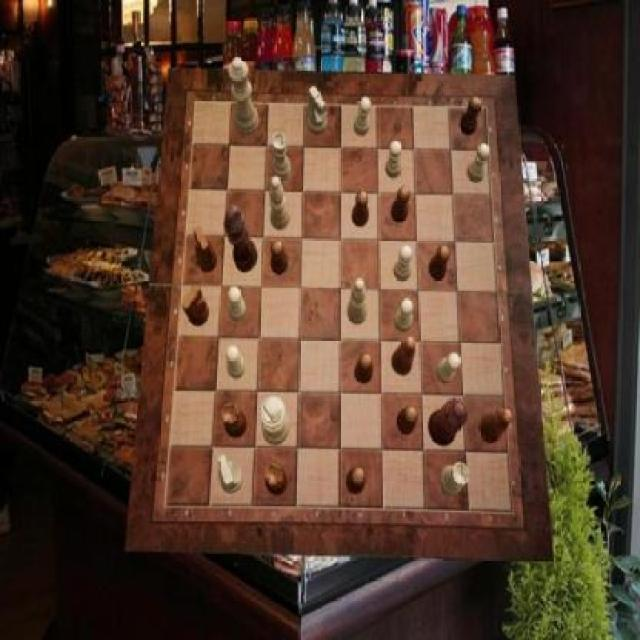bishop: (480, 408, 514, 444), (392, 337, 416, 377)
black-bishop: (224, 206, 258, 274)
black-king: (183, 285, 211, 327), (194, 226, 218, 272)
black-knight: (460, 97, 482, 135), (429, 244, 452, 280), (391, 186, 411, 222), (352, 189, 370, 227), (397, 406, 418, 436), (271, 240, 288, 275), (346, 466, 366, 494), (355, 354, 373, 384)
black-pawn: (428, 399, 468, 446)
black-queen: (223, 403, 248, 438), (264, 465, 288, 497)
black-rook: (271, 177, 291, 231), (348, 278, 368, 324)
white-bishop: (260, 397, 290, 445)
white-king: (217, 455, 243, 494), (308, 86, 328, 136)
white-knight: (468, 143, 490, 182), (437, 352, 461, 385), (394, 246, 413, 282), (354, 97, 371, 137), (227, 344, 246, 378), (386, 140, 403, 178), (395, 298, 413, 332), (228, 288, 245, 322)
white-pawn: (229, 57, 260, 135)
white-queen: (438, 462, 468, 496), (272, 134, 292, 181)
